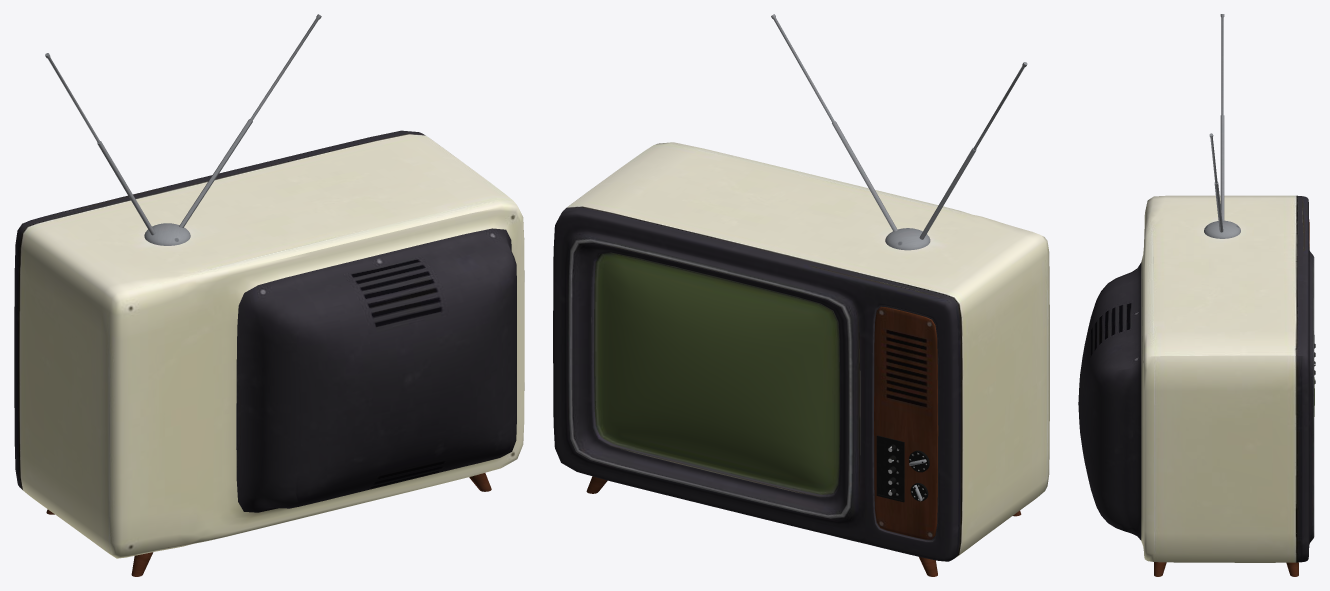
The model's file is tv_retro_white.glb.
3 views of the same model, side by side, from view 1: azimuth 30°, elevation 25°; view 2: azimuth 150°, elevation 25°; view 3: azimuth 270°, elevation 25° (orthographic). The views are drawn at different scales.
Visible parts, largest first — view 1: defaultMaterial; view 2: defaultMaterial; view 3: defaultMaterial.
Boxes of the visible parts, left/top/right/bottom form: defaultMaterial: left=14, top=14, right=524, bottom=576; defaultMaterial: left=553, top=14, right=1049, bottom=576; defaultMaterial: left=1078, top=14, right=1315, bottom=576.
Size of the model in its own units: 1.81 by 2 by 1.06.
Materials: 1 (1 with a texture image).
